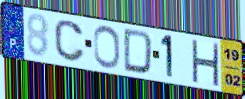1: (158, 33, 175, 82)
8: (26, 13, 52, 61)
C: (53, 19, 87, 64)
D: (123, 27, 155, 76)
H: (190, 38, 220, 88)
O: (92, 25, 122, 71)
